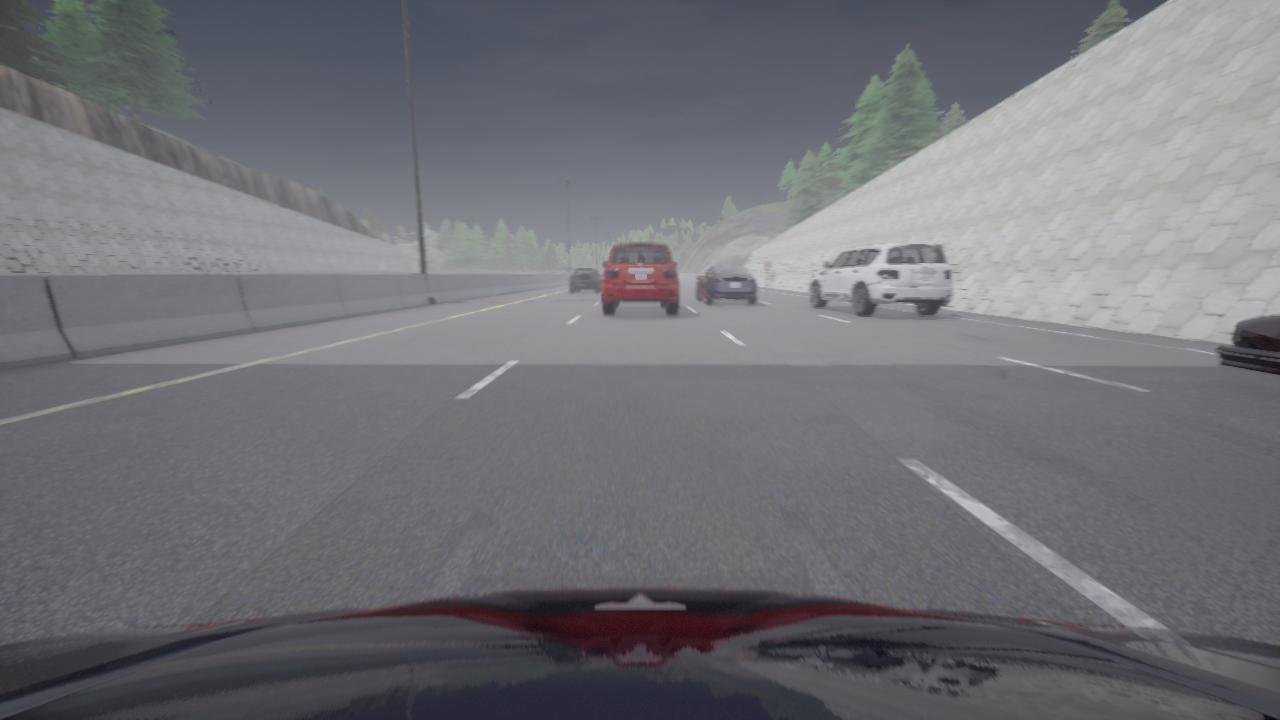cyclist: (0, 588, 1279, 719), (809, 243, 952, 316), (602, 243, 678, 315), (1215, 315, 1279, 375), (696, 267, 756, 304), (569, 269, 602, 292)
